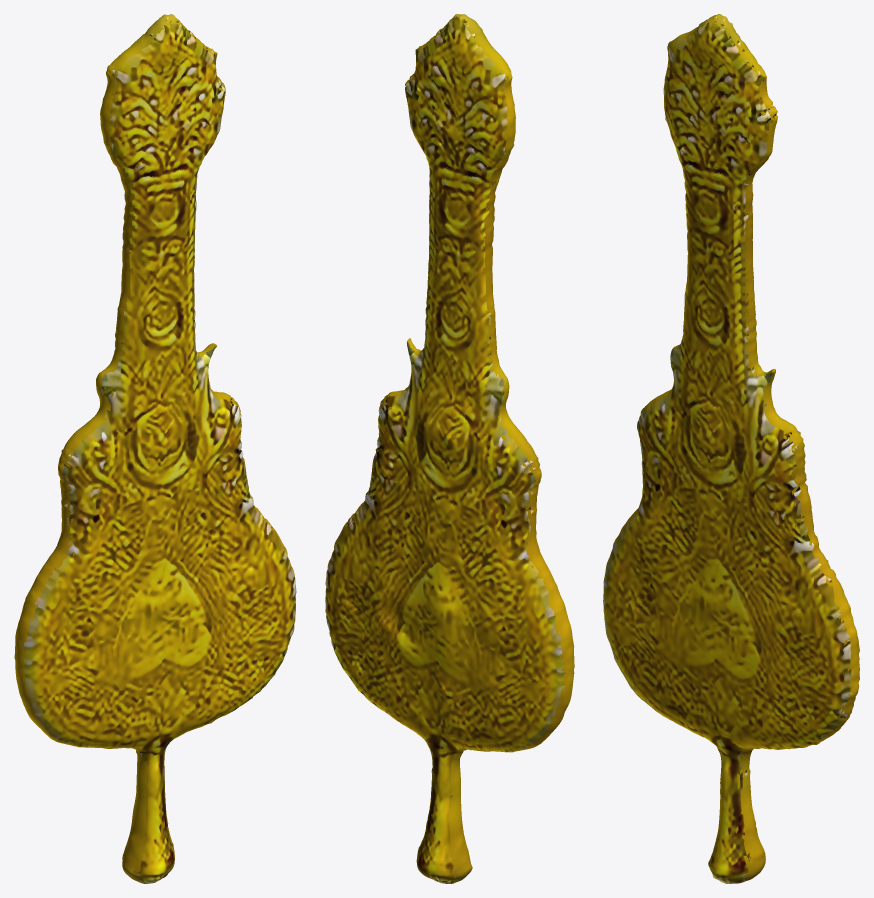
Rendered from kfl-2297.glb.
The picture shows the model from 3 angles, left to right: view 1: azimuth 30°, elevation 25°; view 2: azimuth 150°, elevation 25°; view 3: azimuth 330°, elevation 25°; orthographic projection. The views are drawn at different scales.
Visible parts, largest first — view 1: kfl-2297; view 2: kfl-2297; view 3: kfl-2297.
Boxes of the visible parts, x1,y1,x2,y2 form: kfl-2297: (14, 14, 296, 883); kfl-2297: (325, 14, 574, 883); kfl-2297: (603, 14, 859, 883).
Size of the model in its own units: 0.3112 by 0.9878 by 0.0824.
Materials: 4 (4 with a texture image).
